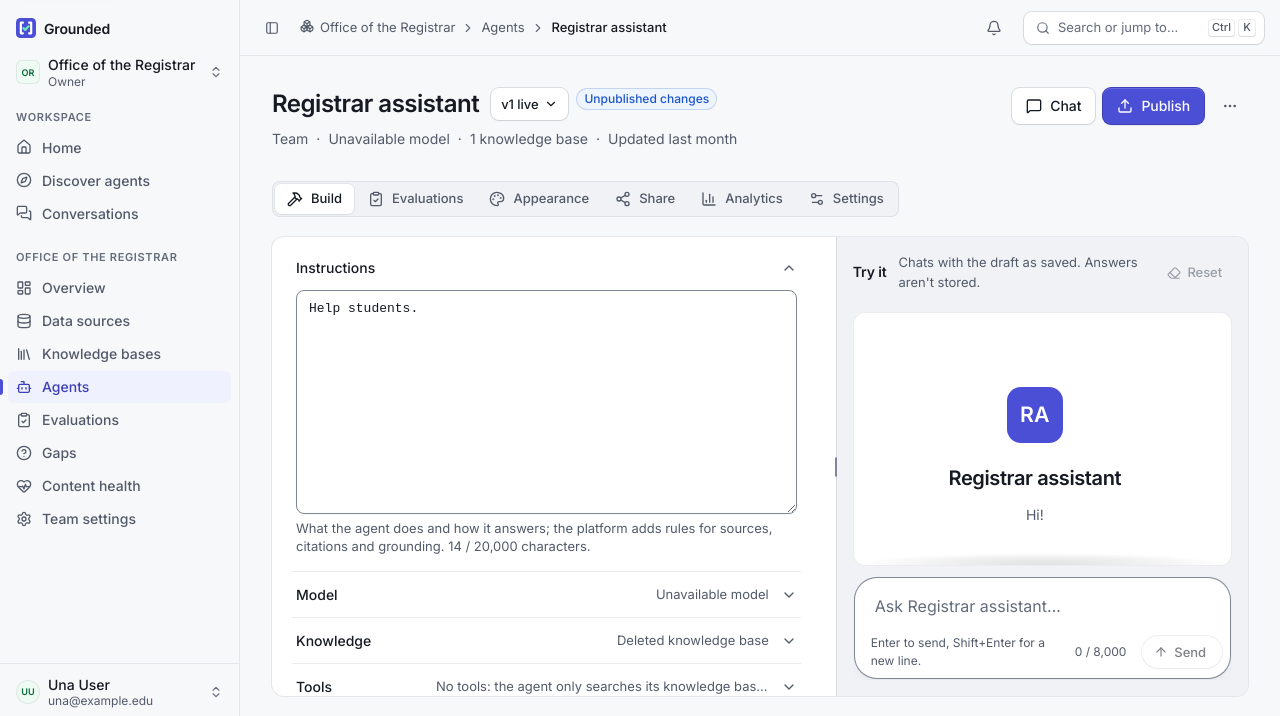
Scenario: the agent editor's tabs and version menu (I6) › has 6 tabs, and the version badge is a menu that opens the history as a record page
Check: the tab "Build" is shown, box [275,184,354,214]
Check: the tabs read "Build", "Evaluations", "Appearance", "Share", "Analytics", "Settings", in this order, box [275,184,354,214]; [356,184,476,214]; [477,184,601,214]; [603,184,687,214]; [689,184,795,214]; [797,184,896,214]
Click the button "v1 live": coordinates (530, 104) [491,88,568,120]
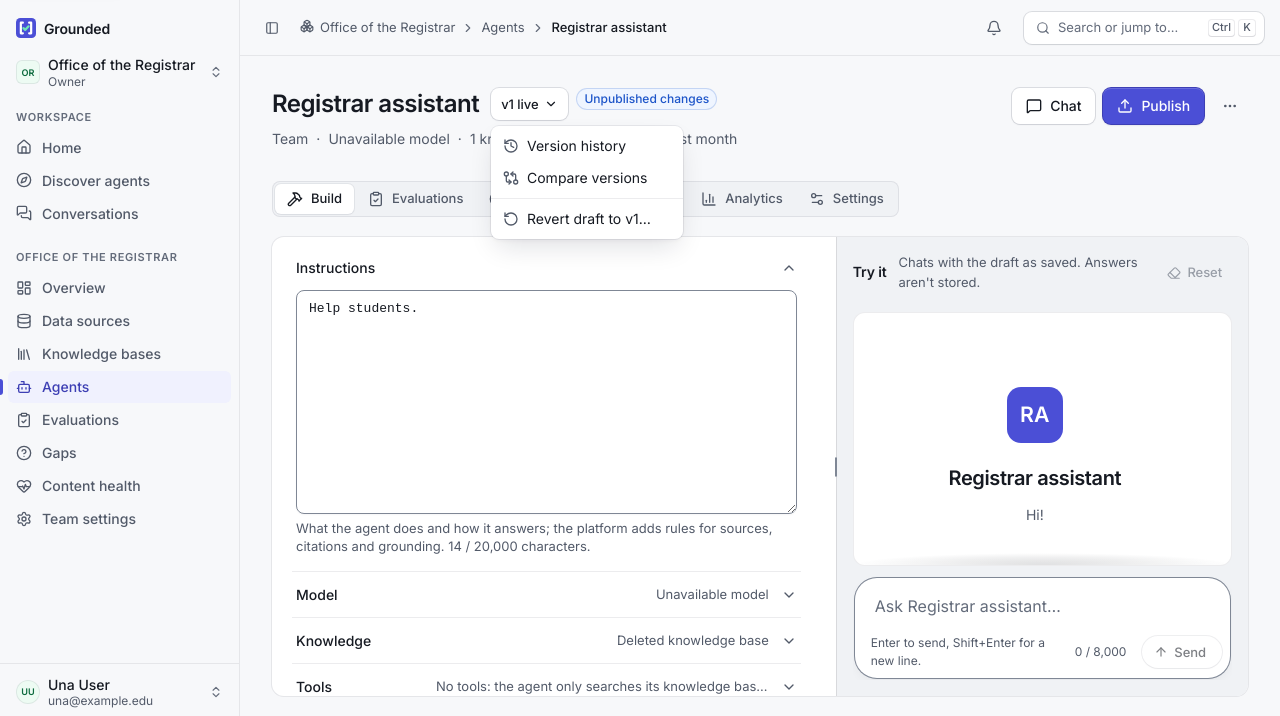
Check: the menu items read "Version history", "Compare versions", "Revert draft to v1…", in this order
Click the menu item "Version history": coordinates (564, 146) [503,137,626,154]
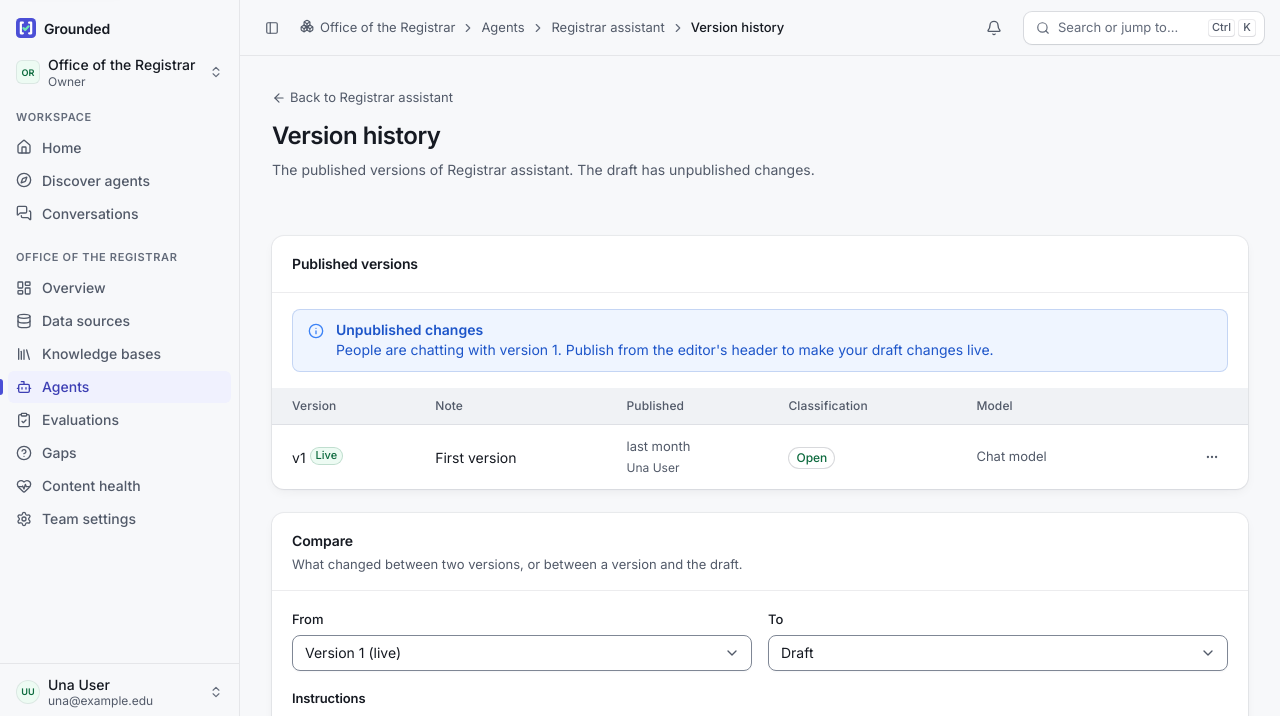
Check: the heading "Version history" is shown, box [272,122,440,151]
Check: the table named "Published versions" shows "First version", box [435,449,516,466]
Check: the navigation bar named "Breadcrumb" reads "Office of the Registrar Agents Registrar assistant Version history", box [300,18,785,38]
Note: A version opens on top of the history, and its back link returns there.
Click the button named "Actions for version 1": coordinates (1212, 457) [1196,441,1228,473]
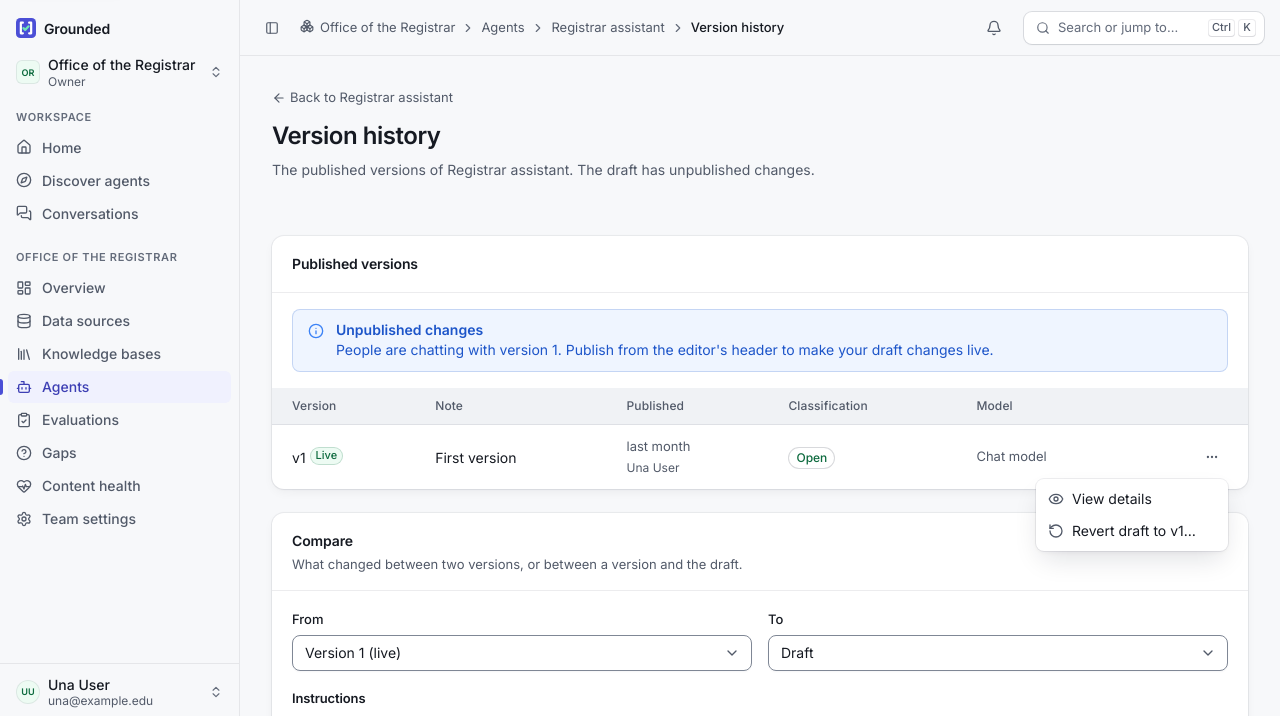
Click the menu item "View details": coordinates (1100, 498) [1048,490,1152,507]
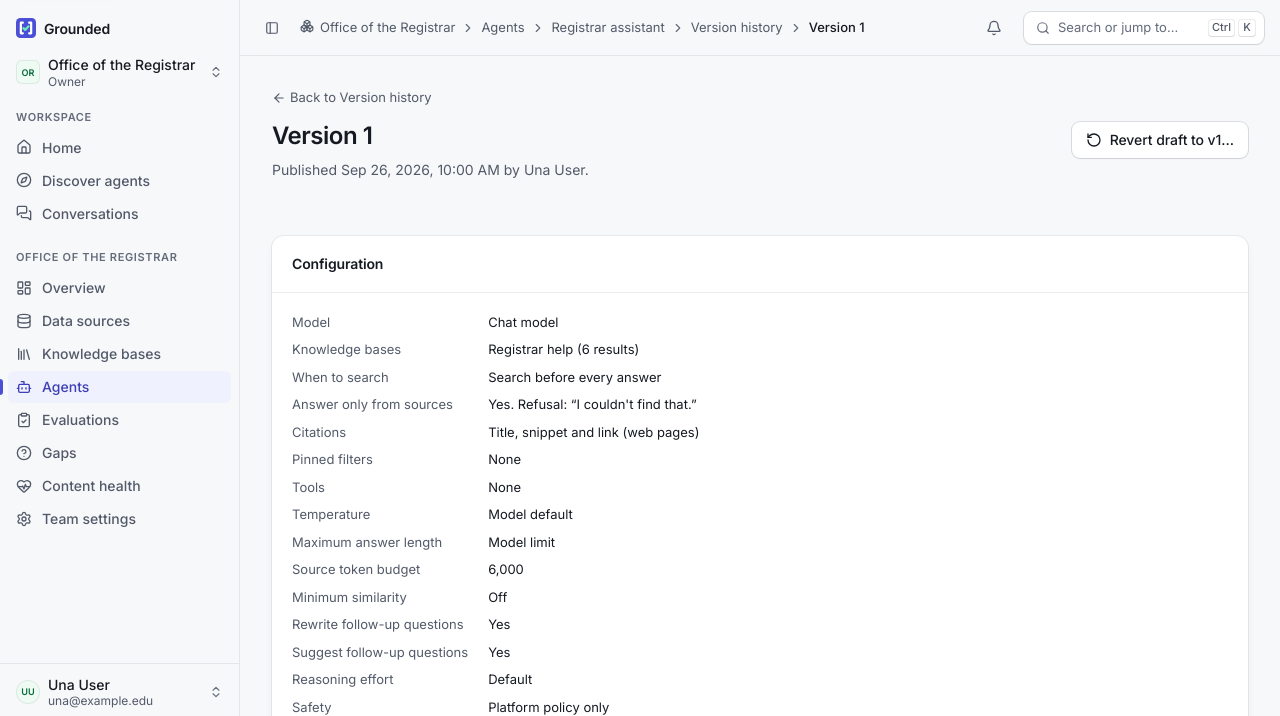
Click the link "Back to Version history": coordinates (352, 98) [272,88,432,108]
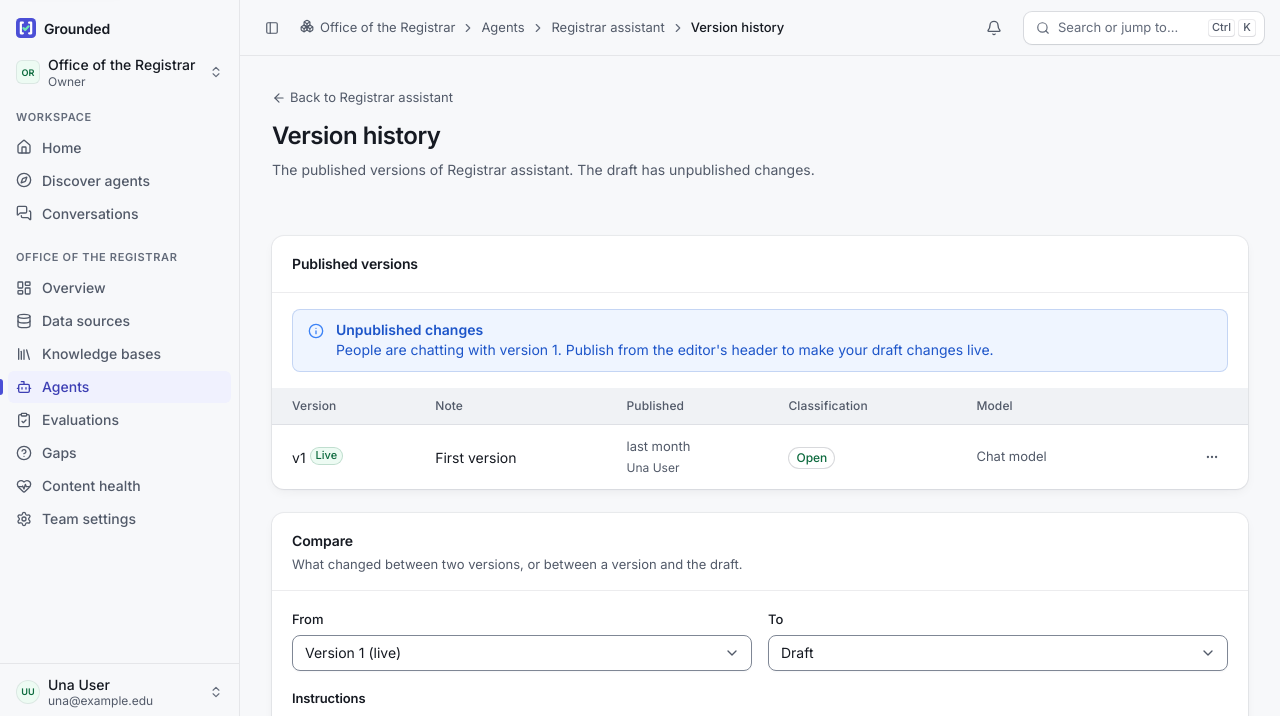
Click the link "Back to Registrar assistant": coordinates (362, 98) [272,88,453,108]
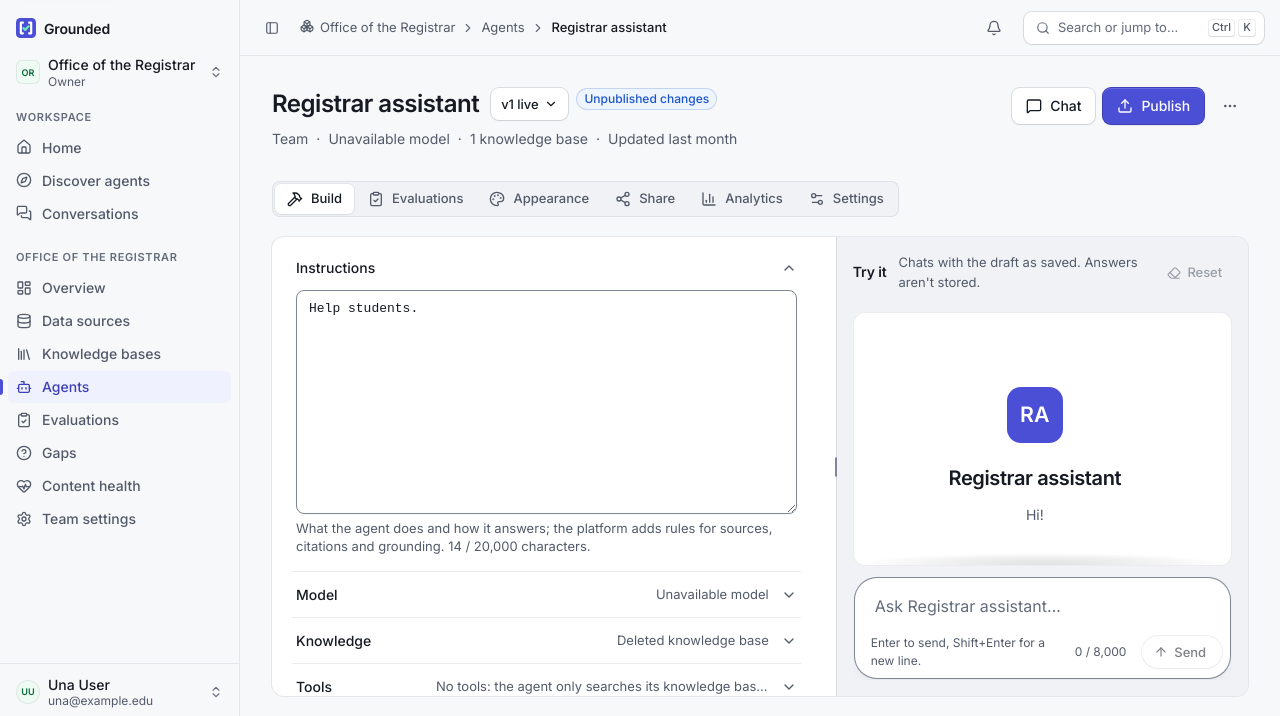
Check: the tab "Build" is shown, box [275,184,354,214]
